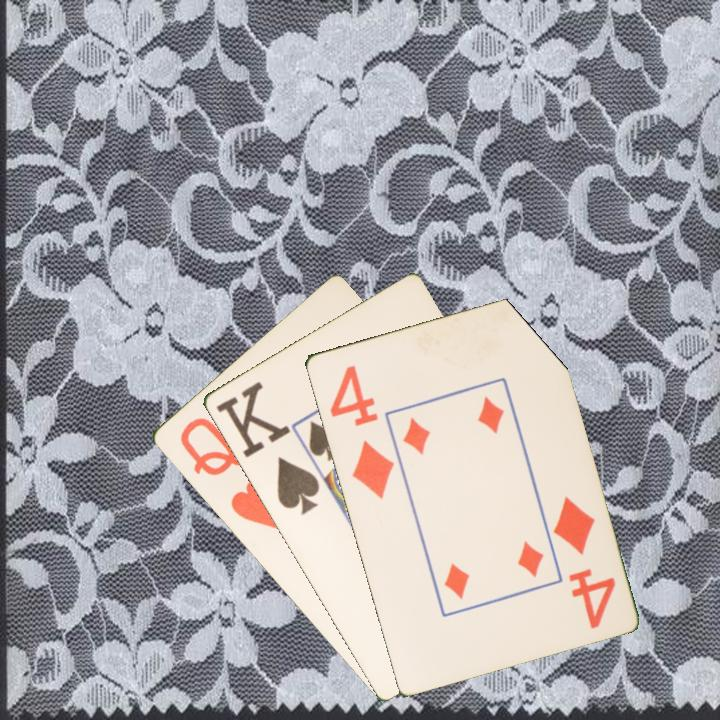4d: (326, 361, 397, 502), (549, 492, 618, 632)
Ks: (212, 378, 323, 519)
Qh: (175, 413, 282, 532)
